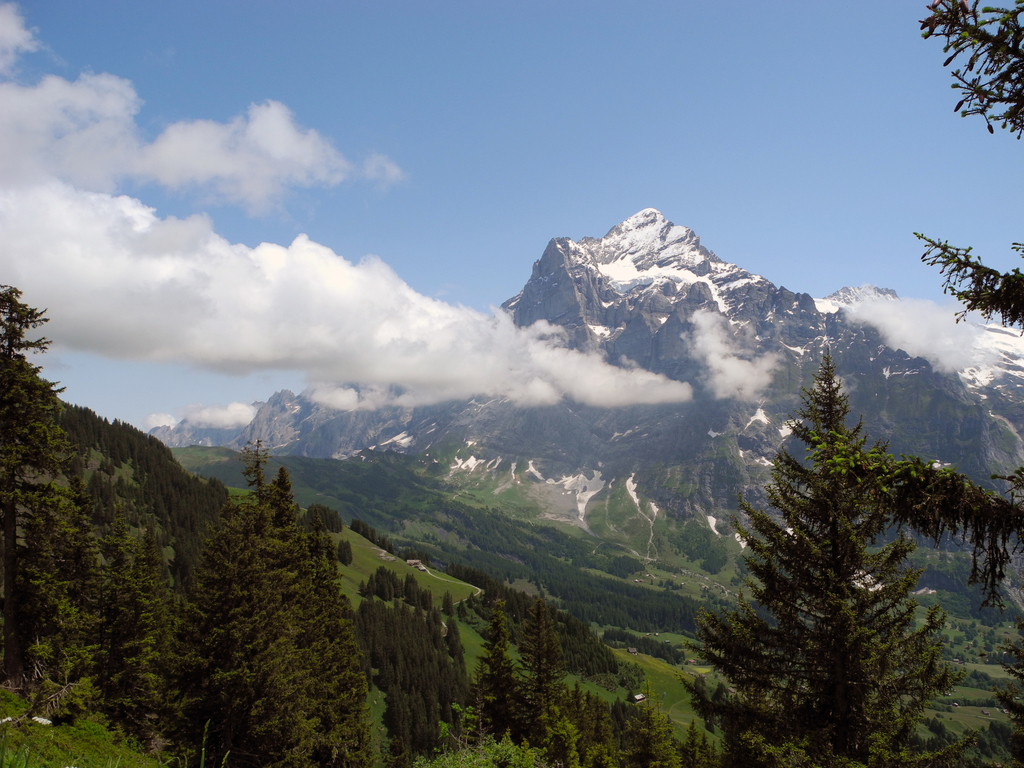Tree: (821, 0, 1023, 762), (679, 347, 984, 767), (22, 439, 373, 767), (0, 281, 93, 676), (481, 673, 708, 767), (362, 603, 475, 767), (464, 576, 615, 678), (131, 456, 229, 552), (52, 401, 167, 471), (413, 721, 543, 767), (446, 506, 531, 561), (528, 565, 641, 606), (595, 628, 686, 664), (359, 565, 428, 611), (572, 601, 658, 633), (455, 550, 531, 581), (341, 458, 393, 502), (192, 453, 253, 490), (165, 536, 200, 600), (285, 456, 343, 489), (323, 485, 391, 512), (346, 518, 393, 555), (652, 607, 705, 639), (433, 490, 476, 528), (542, 542, 605, 567), (535, 522, 592, 546), (949, 621, 995, 649), (392, 501, 450, 523), (392, 465, 433, 494), (604, 552, 648, 579), (704, 595, 746, 617), (926, 631, 952, 662), (640, 586, 676, 607), (396, 549, 434, 568), (258, 458, 285, 483), (931, 696, 1002, 705), (678, 593, 711, 612), (944, 649, 977, 666), (914, 734, 944, 752), (440, 590, 456, 617), (929, 718, 946, 740), (528, 545, 545, 566), (903, 615, 918, 631), (106, 453, 115, 476)
